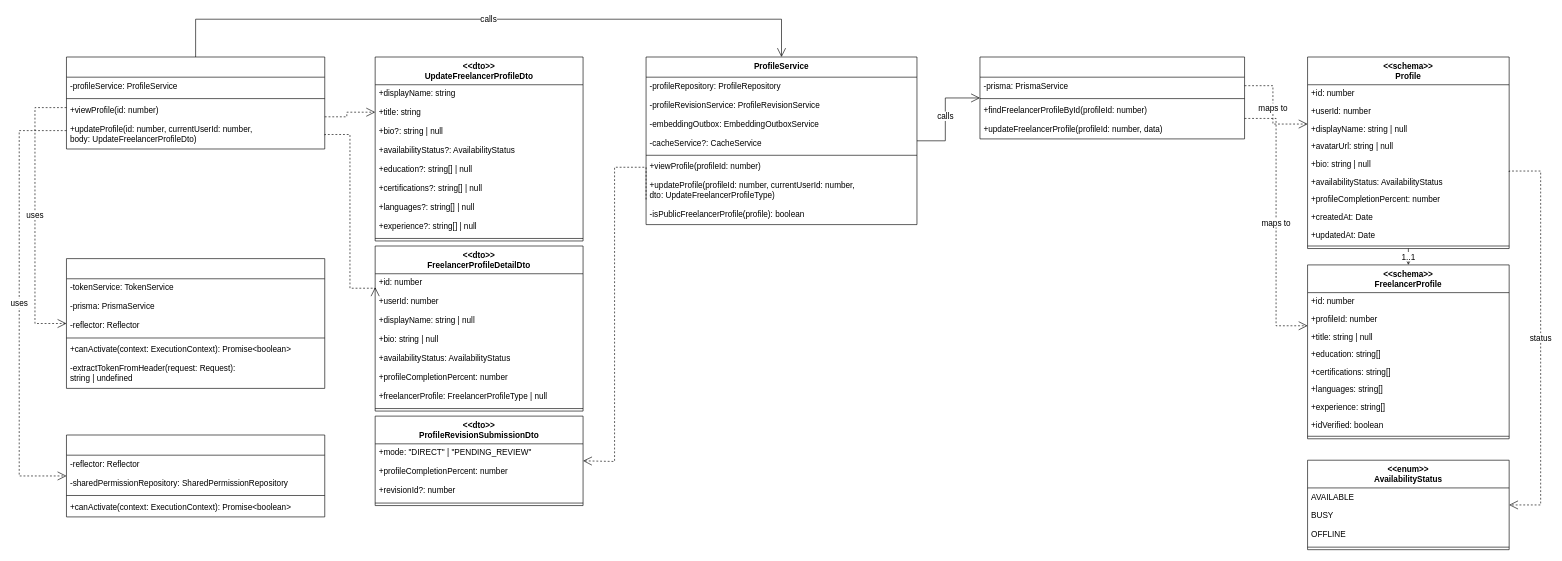
The diagram is 1562 pixels wide and 561 high, and some of its shapes have lost their labels. Each missing label, with the box of its shape:
AuthGuard: (66, 258, 325, 388)
PermissionGuard: (66, 434, 325, 517)
ProfileController: (66, 56, 325, 149)
ProfileRepository: (979, 56, 1245, 139)
